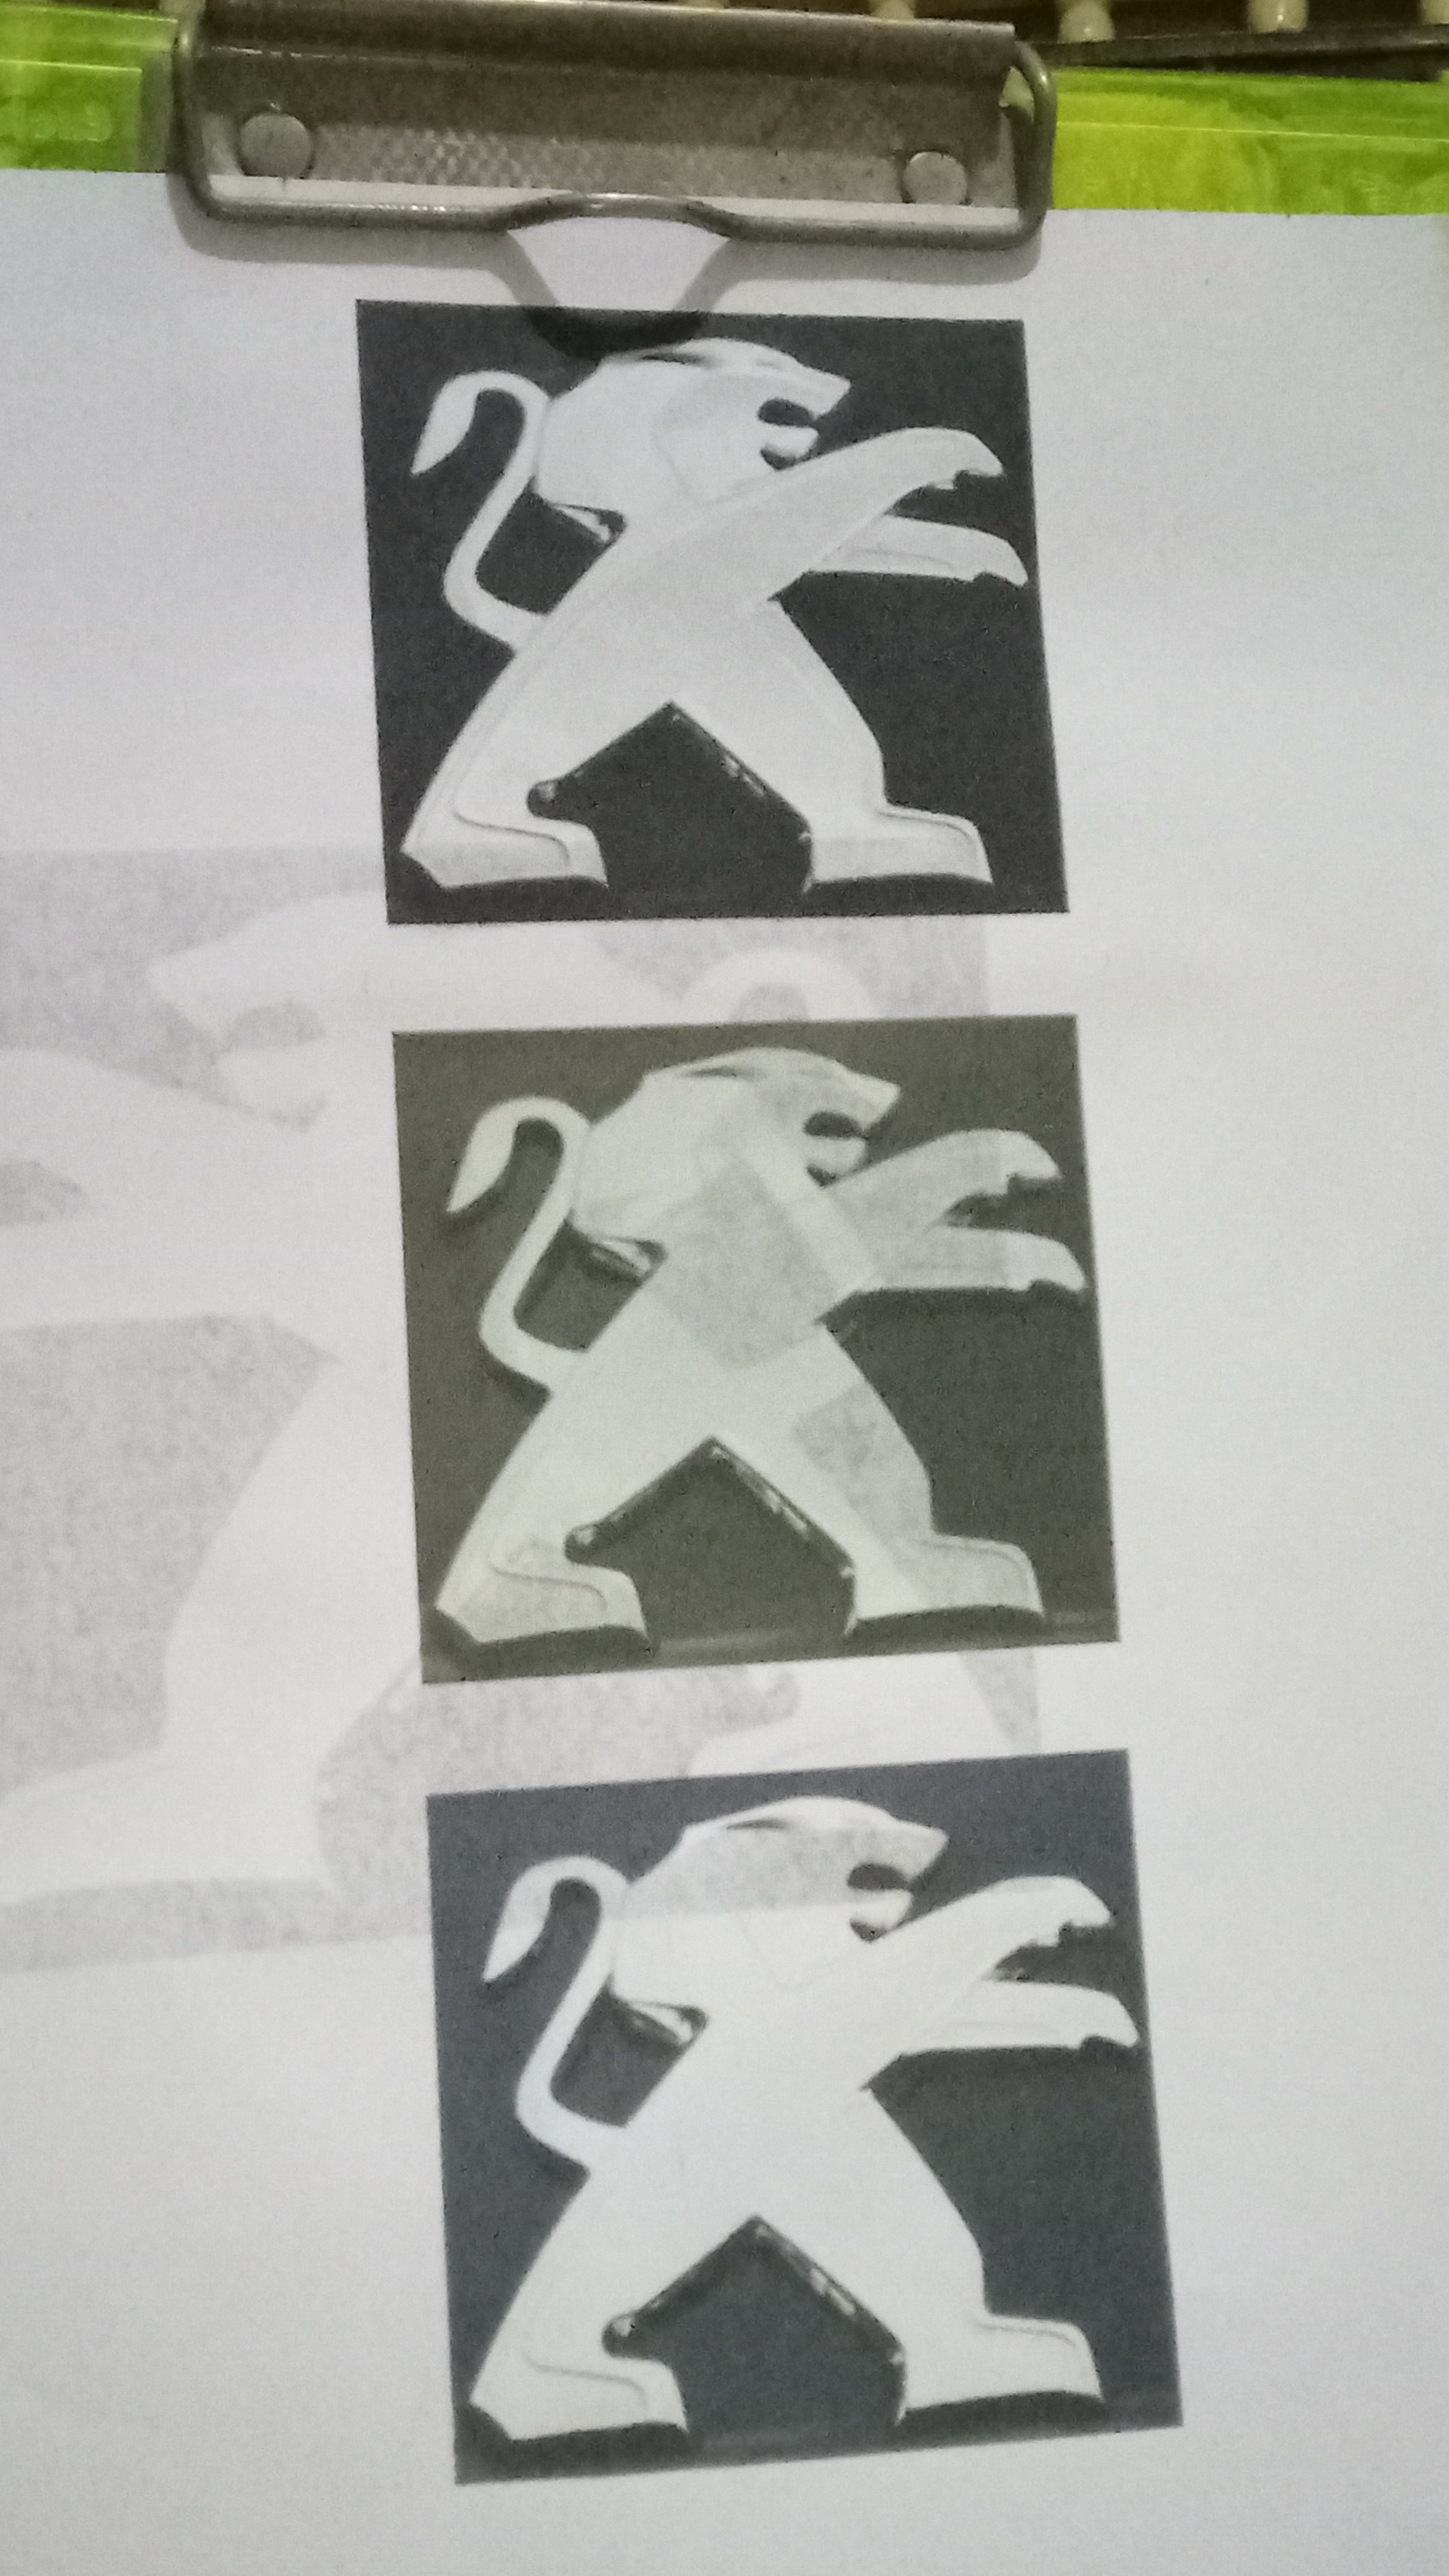Peugeot: (449, 1782, 1161, 2456), (414, 1039, 1095, 1645), (377, 315, 1056, 908)
